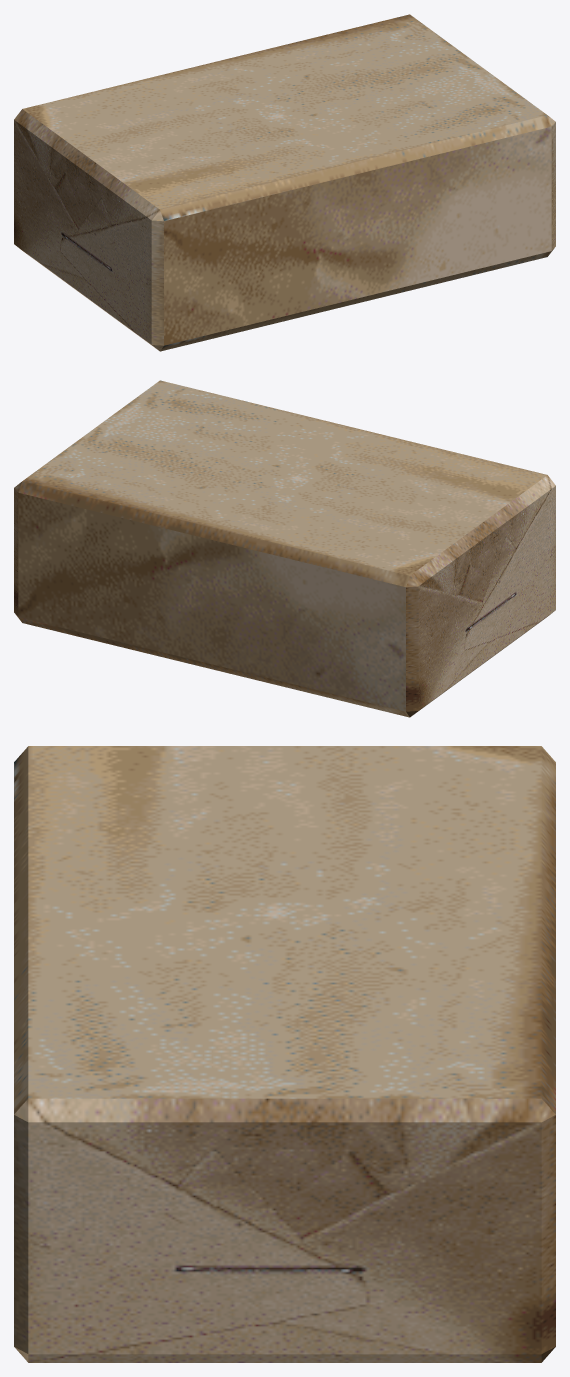
File: ammoKit.glb
3 renders of one model, top to bottom at view 1: azimuth 30°, elevation 25°; view 2: azimuth 150°, elevation 25°; view 3: azimuth 270°, elevation 25°, orthographic. The views are drawn at different scales.
Parts seen in each view (by area): view 1: paper box; view 2: paper box; view 3: paper box.
Part boxes in pixels (bbox=[...]): paper box: bbox=[14, 14, 555, 351]; paper box: bbox=[14, 380, 555, 717]; paper box: bbox=[14, 746, 555, 1362].
Bounding box in the file's own units: 0.369 × 0.1237 × 0.23.
Materials: 1 (1 with a texture image).
